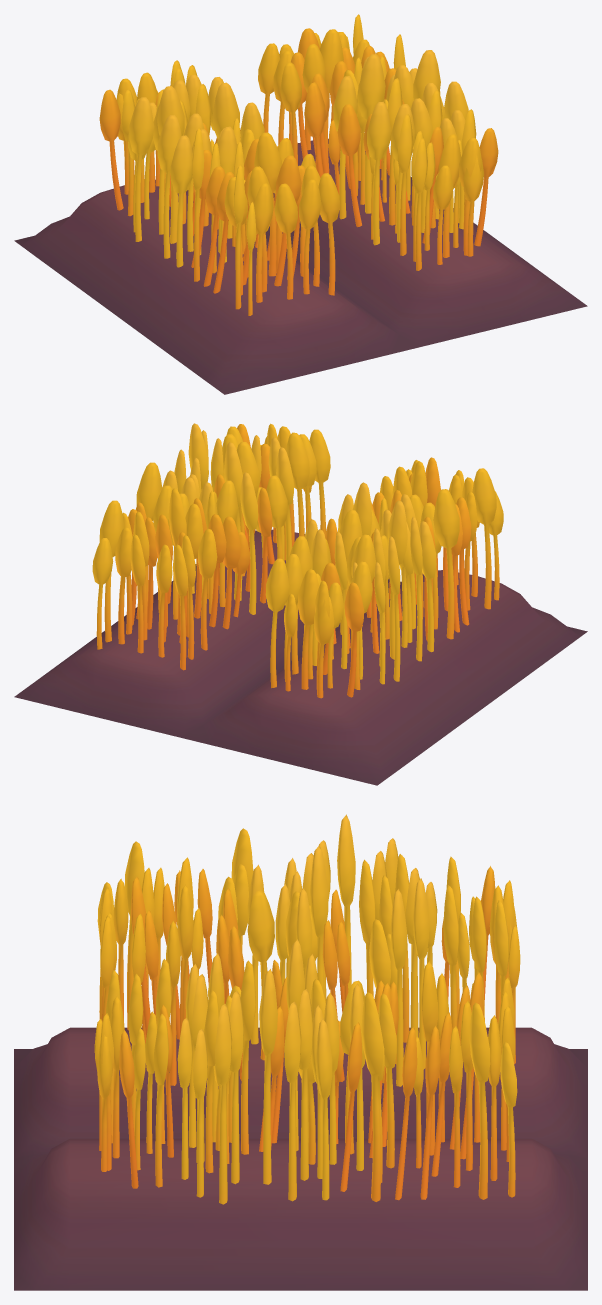
Rendered from village_town_farm_wheat.glb.
3 renders of one model, top to bottom at view 1: azimuth 30°, elevation 25°; view 2: azimuth 150°, elevation 25°; view 3: azimuth 270°, elevation 25°, orthographic. The views are drawn at different scales.
Visible parts, largest first — view 1: Farm_Wheat.001_Material.005_0; view 2: Farm_Wheat.001_Material.005_0; view 3: Farm_Wheat.001_Material.005_0.
Boxes of the visible parts, x1,y1,x2,y2 form: Farm_Wheat.001_Material.005_0: (14, 14, 587, 394); Farm_Wheat.001_Material.005_0: (14, 423, 587, 785); Farm_Wheat.001_Material.005_0: (14, 814, 587, 1290).
Size of the model in its own units: 1.99 by 1.07 by 2.
1 material, 1 textured.
